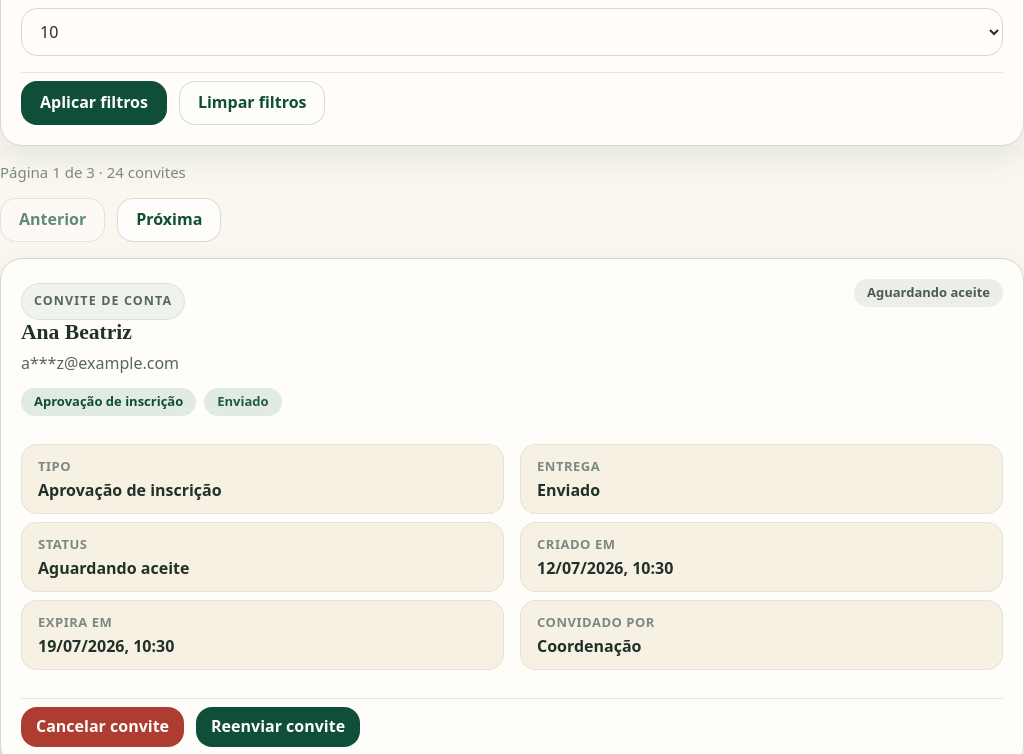
Test: AdminAccountInvitationsPage › sucesso de reenvio pending mostra mensagem correta
(page scrolled)
Step 1. Click the button "Reenviar convite" → (278, 727), box [196,707,360,747]
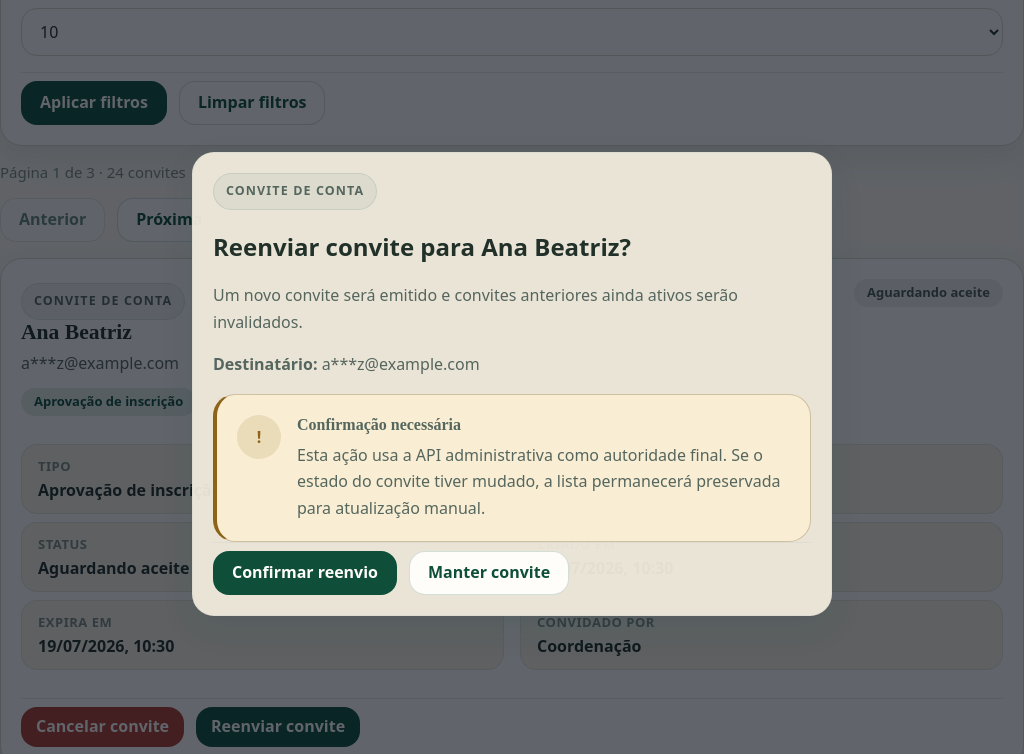
Step 2. Click the button "Confirmar reenvio" → (305, 573), box [213,551,397,595]
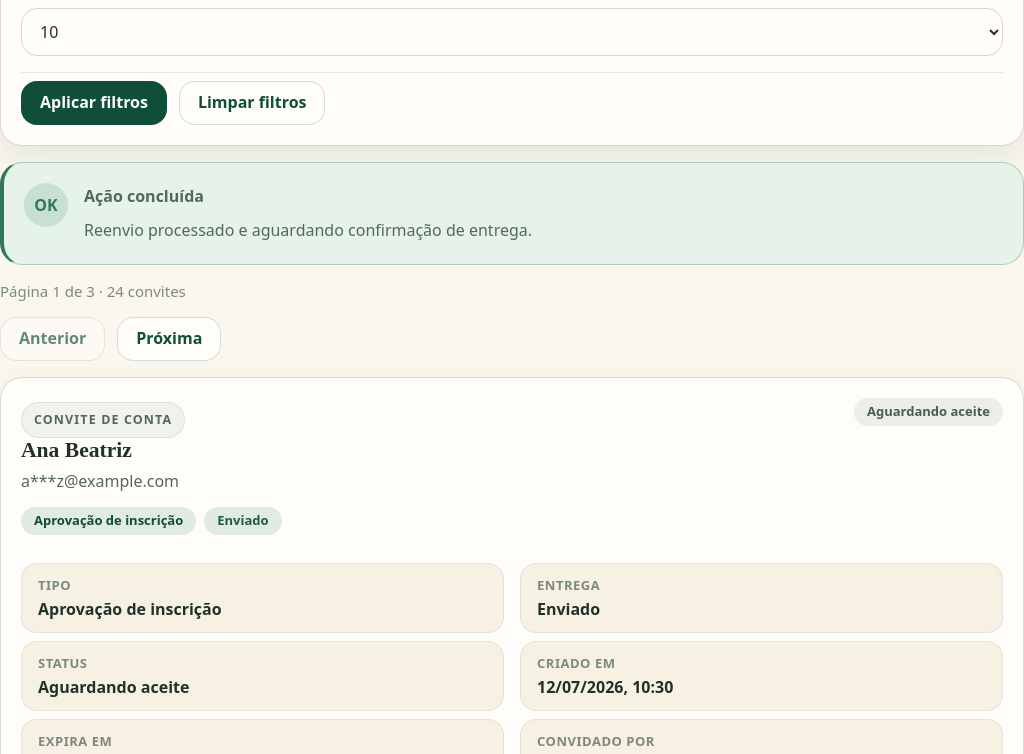
Expected: the text "Reenvio processado e aguardando confirmação de entrega." is shown, [84,219,532,241]
